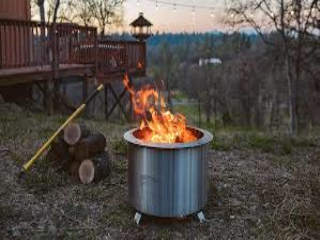fire: (124, 83, 198, 149)
